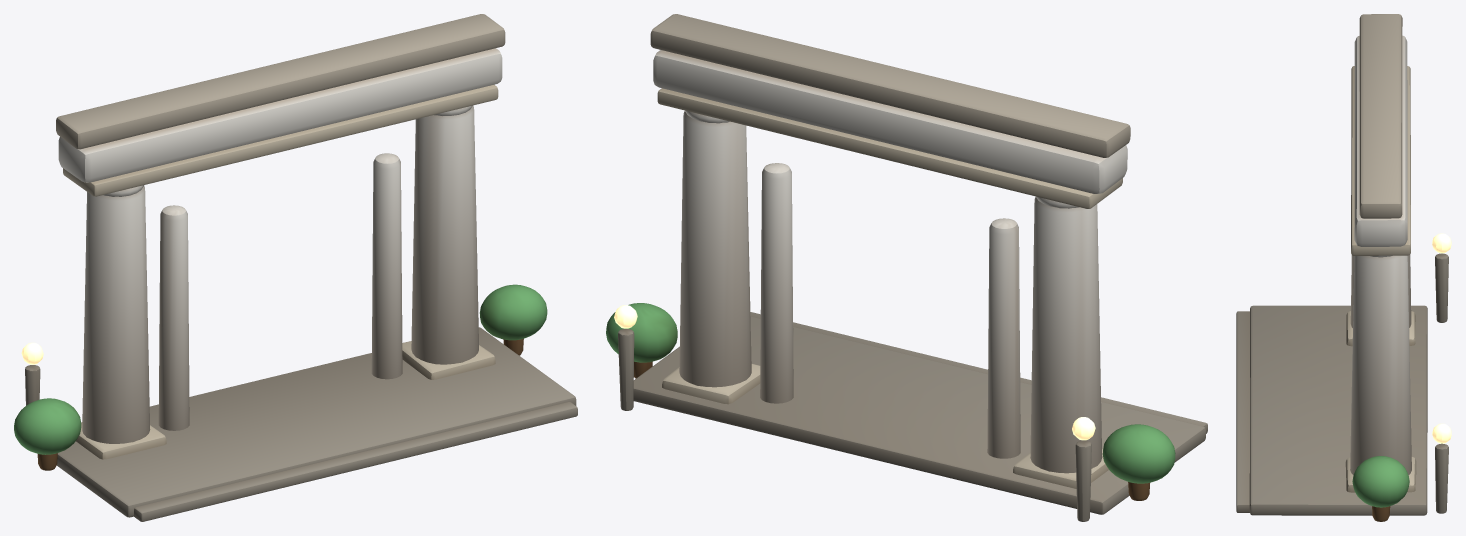
3 views of the same model, side by side, from view 1: azimuth 30°, elevation 25°; view 2: azimuth 150°, elevation 25°; view 3: azimuth 270°, elevation 25° (orthographic). The views are drawn at different scales.
Parts seen in each view (by area): view 1: gate_a7aacb17; view 2: gate_a7aacb17; view 3: gate_a7aacb17.
Part boxes in pixels (<box>): gate_a7aacb17: <box>14,14,577,521</box>; gate_a7aacb17: <box>606,14,1207,521</box>; gate_a7aacb17: <box>1236,14,1451,521</box>.
Size of the model in its own units: 6.53 by 4.04 by 2.55.
